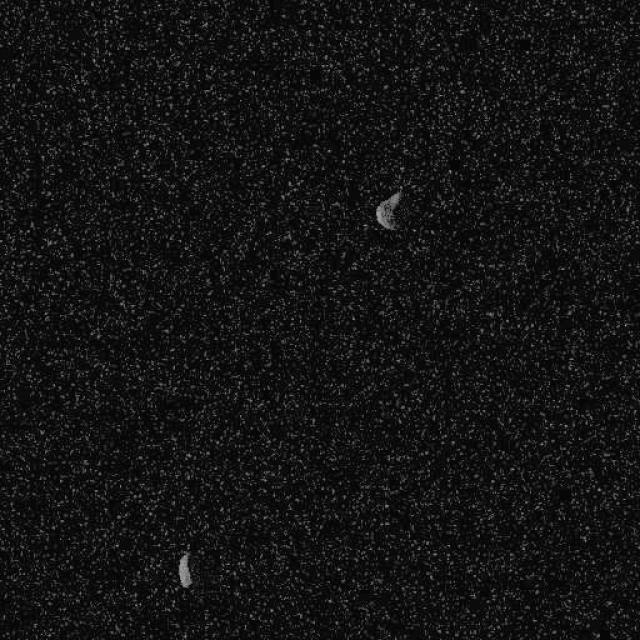D2: (373, 190, 402, 231), (176, 551, 192, 589)
